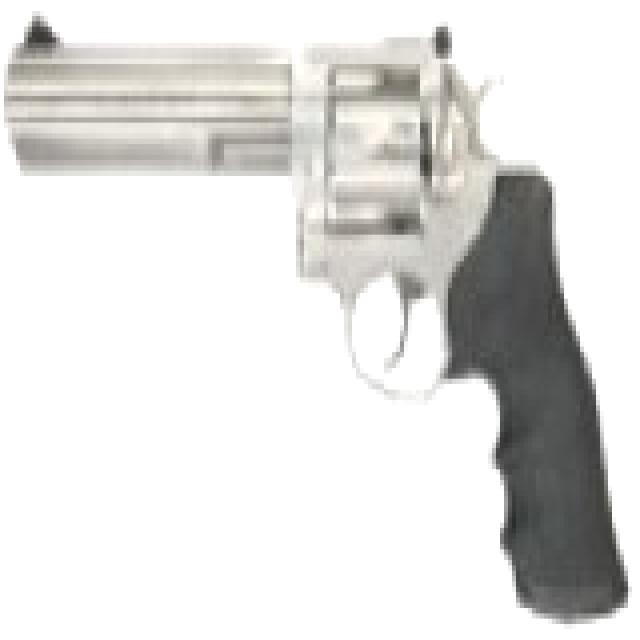pistol: (12, 6, 628, 614)
